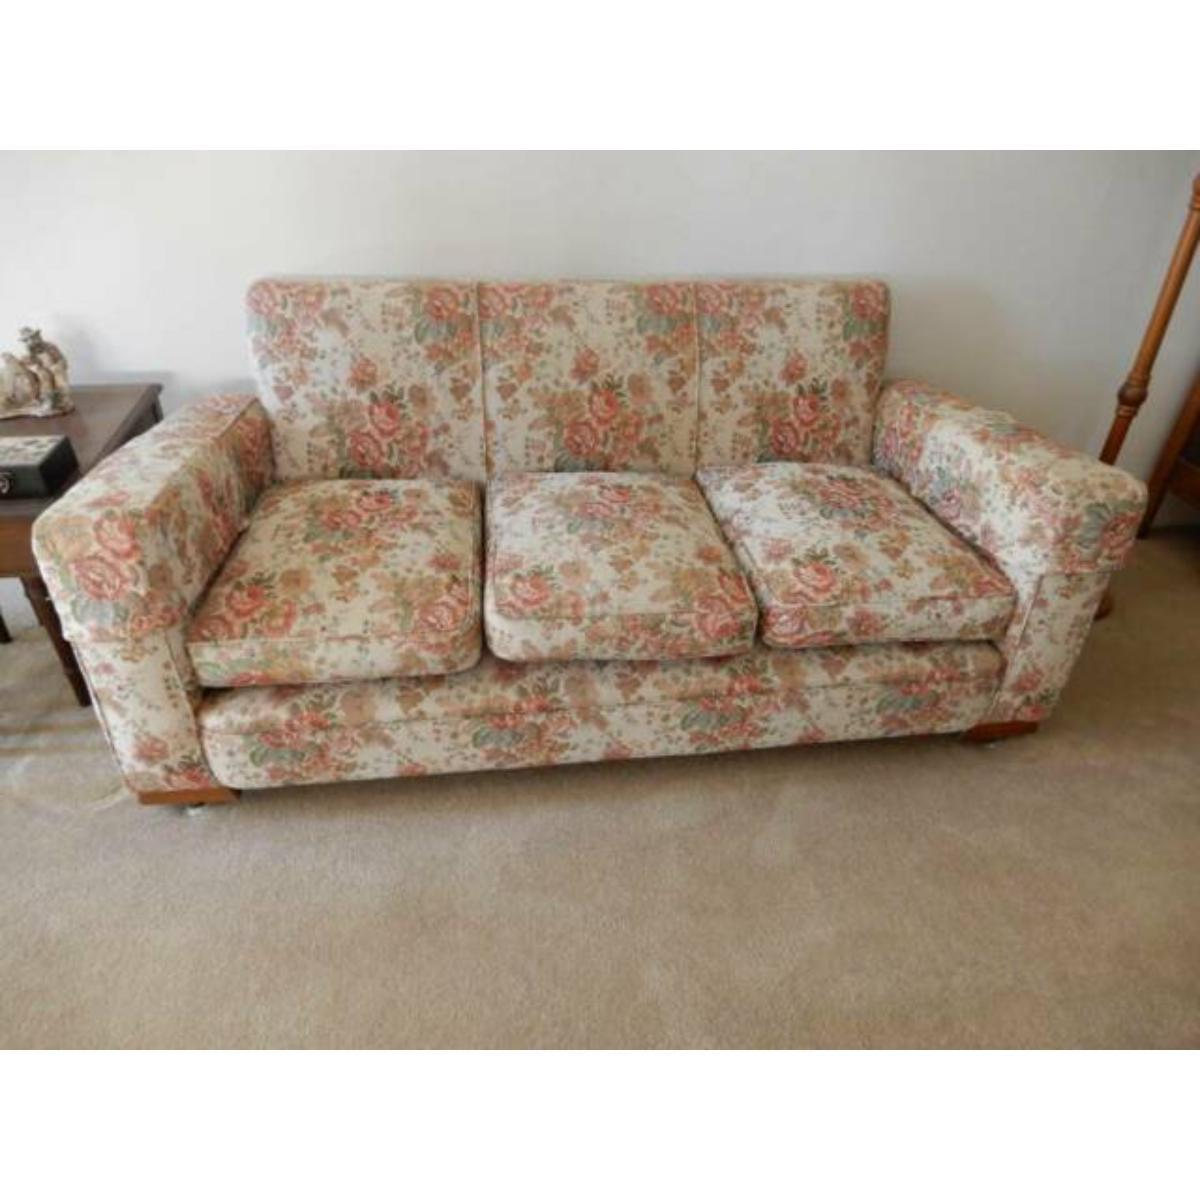Sofa: (28, 274, 1149, 809)
